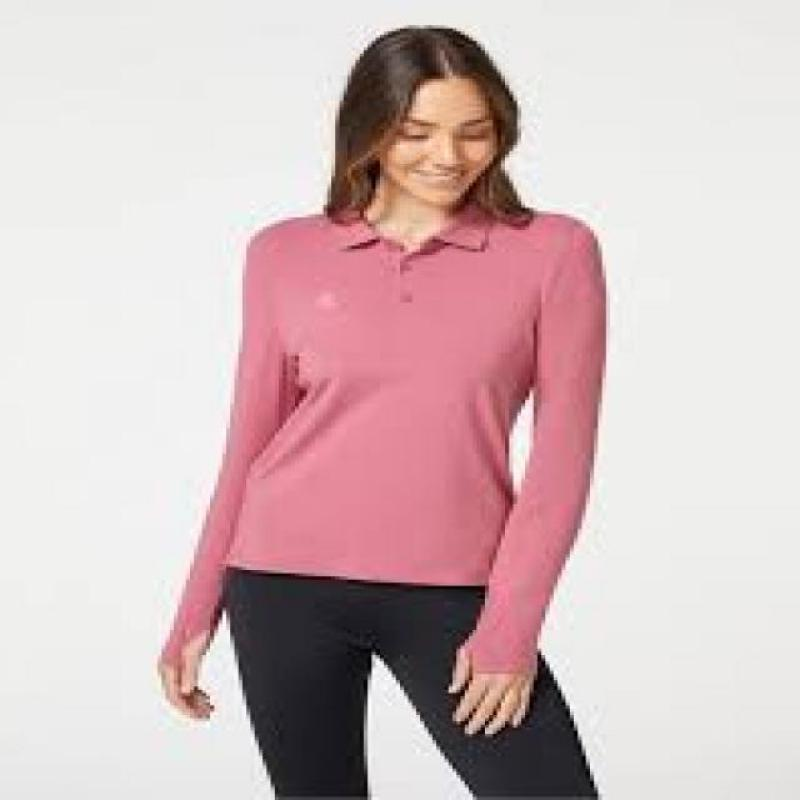long sleeve shirt: (155, 207, 610, 671)
trousers: (222, 565, 597, 800)
